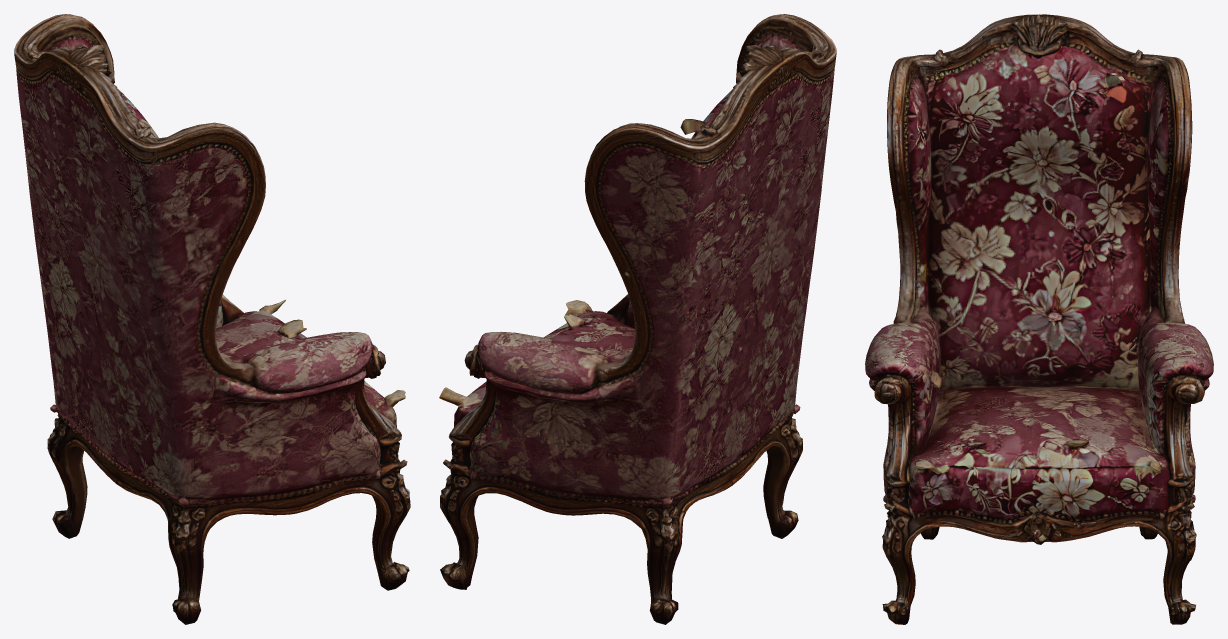
3 renders of one model, left to right at view 1: azimuth 30°, elevation 25°; view 2: azimuth 150°, elevation 25°; view 3: azimuth 270°, elevation 25°, orthographic. The views are drawn at different scales.
Visible parts, largest first — view 1: tripo_node_567fd9de-11fd-4148-b9e8-447566af8b63; view 2: tripo_node_567fd9de-11fd-4148-b9e8-447566af8b63; view 3: tripo_node_567fd9de-11fd-4148-b9e8-447566af8b63.
Boxes of the visible parts, x1=… form: tripo_node_567fd9de-11fd-4148-b9e8-447566af8b63: x1=14, y1=14, x2=410, y2=624; tripo_node_567fd9de-11fd-4148-b9e8-447566af8b63: x1=439, y1=14, x2=836, y2=624; tripo_node_567fd9de-11fd-4148-b9e8-447566af8b63: x1=865, y1=14, x2=1213, y2=624.
Bounding box in the file's own units: 0.5371 × 1 × 0.6234.
Materials: 1 (1 with a texture image).
